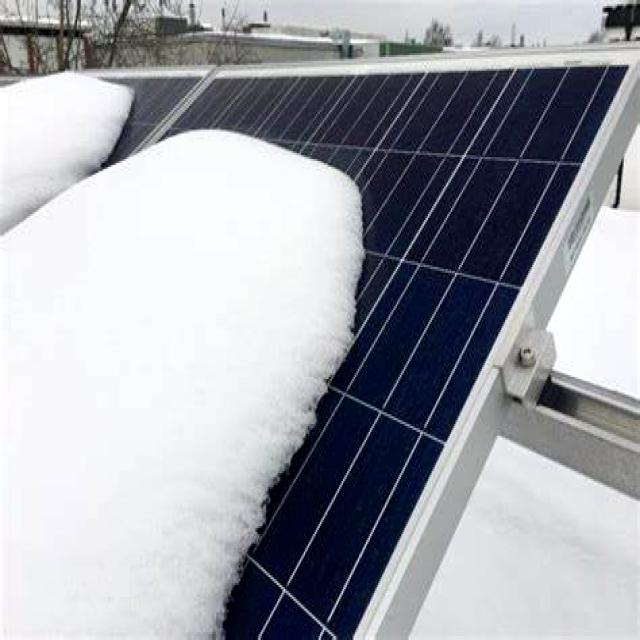panel: (207, 463, 286, 640), (280, 328, 356, 481), (246, 125, 342, 210), (348, 170, 391, 348), (142, 106, 228, 166), (57, 50, 146, 100), (81, 117, 131, 171)
